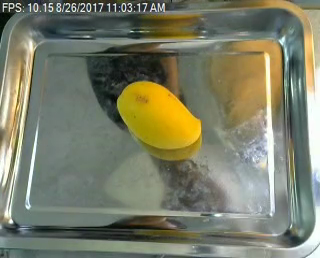Mango: (116, 78, 205, 154)
